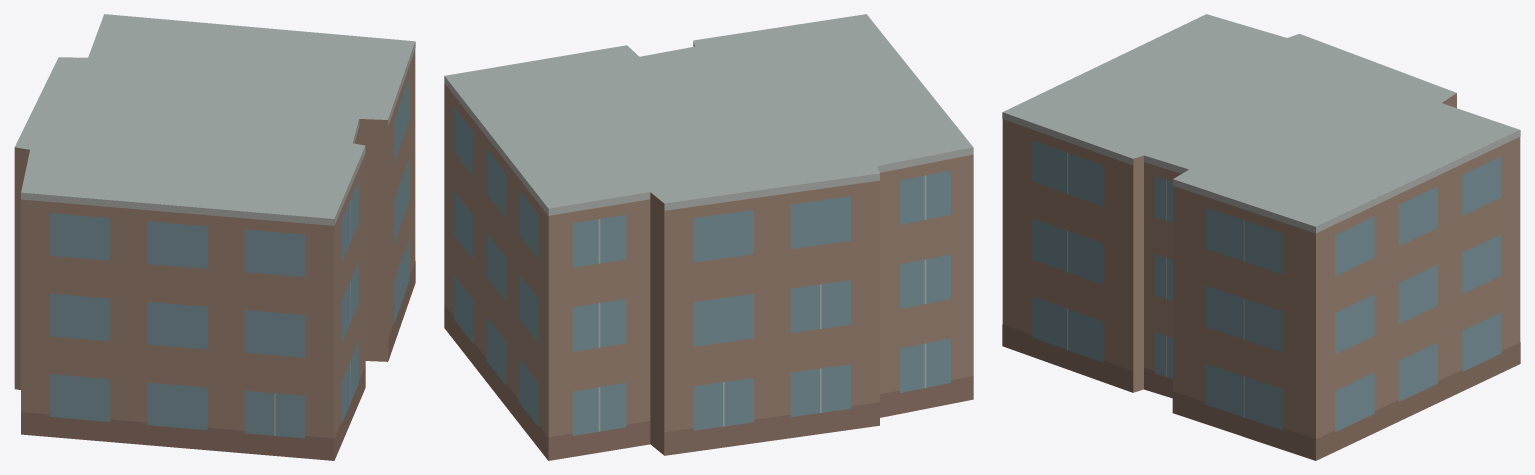
The model's file is survey-upis-33018579.glb.
The picture shows the model from 3 angles, left to right: view 1: azimuth 30°, elevation 25°; view 2: azimuth 150°, elevation 25°; view 3: azimuth 270°, elevation 25°; orthographic projection. The views are drawn at different scales.
Parts seen in each view (by area): view 1: survey-upis-33018579.tmp; view 2: survey-upis-33018579.tmp; view 3: survey-upis-33018579.tmp.
Part boxes in pixels (box(x1,y1,x2,y2)): survey-upis-33018579.tmp: box(14, 14, 415, 460); survey-upis-33018579.tmp: box(444, 14, 973, 460); survey-upis-33018579.tmp: box(1002, 14, 1520, 460).
Bounding box in the file's own units: 16.79 × 8.6 × 17.26.
